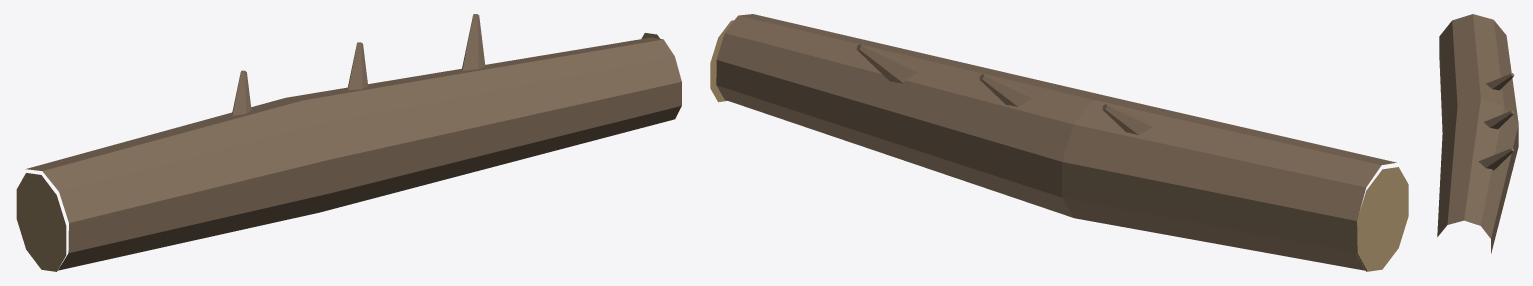
Rendered from log.glb.
The picture shows the model from 3 angles, left to right: view 1: azimuth 30°, elevation 25°; view 2: azimuth 150°, elevation 25°; view 3: azimuth 270°, elevation 25°; orthographic projection. The views are drawn at different scales.
Parts seen in each view (by area): view 1: prop_log_LOD0; view 2: prop_log_LOD0; view 3: prop_log_LOD0.
Part boxes in pixels (x1,y1,x2,y2): prop_log_LOD0: [16, 14, 681, 271]; prop_log_LOD0: [710, 14, 1408, 271]; prop_log_LOD0: [1437, 14, 1518, 253].
Bounding box in the file's own units: 5.34 × 1.08 × 0.9216.
